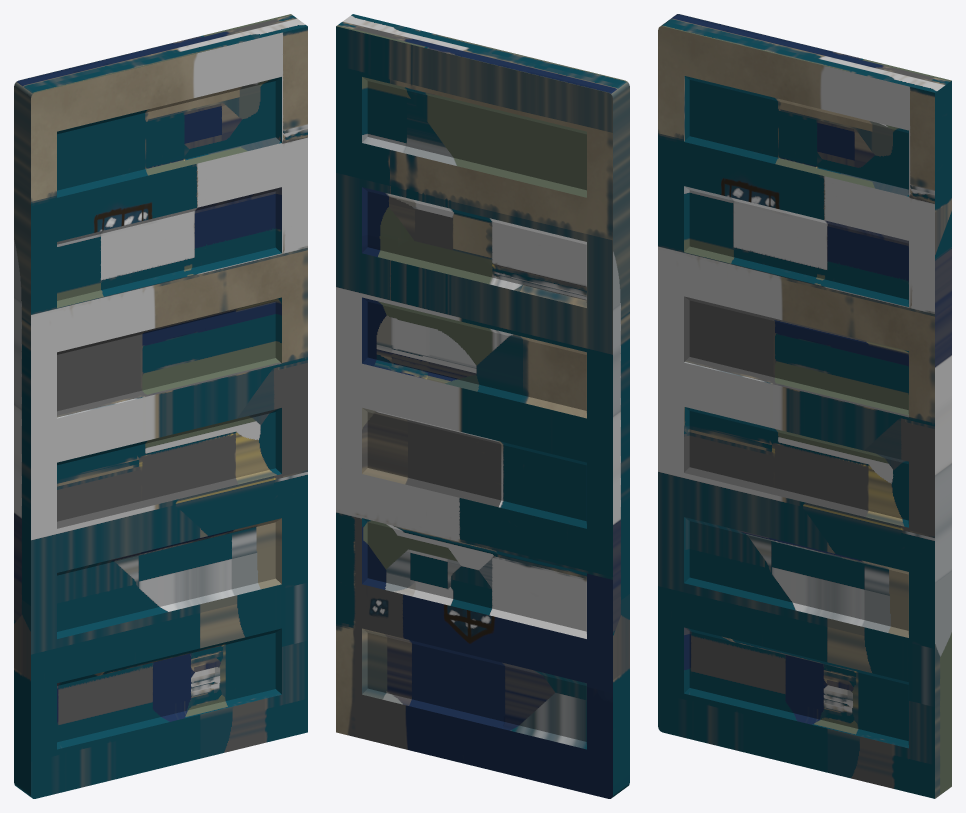
File: LaundryRoomDoor.fbx
3 views of the same model, side by side, from view 1: azimuth 30°, elevation 25°; view 2: azimuth 150°, elevation 25°; view 3: azimuth 330°, elevation 25° (orthographic).
Visible parts, largest first — view 1: BedroomDoor:pCube1; view 2: BedroomDoor:pCube1; view 3: BedroomDoor:pCube1.
Part boxes in pixels (<box>): BedroomDoor:pCube1: <box>14,14,307,798</box>; BedroomDoor:pCube1: <box>336,14,629,798</box>; BedroomDoor:pCube1: <box>658,14,951,798</box>.
Size of the model in its own units: 2.7 by 6.59 by 0.2843.
